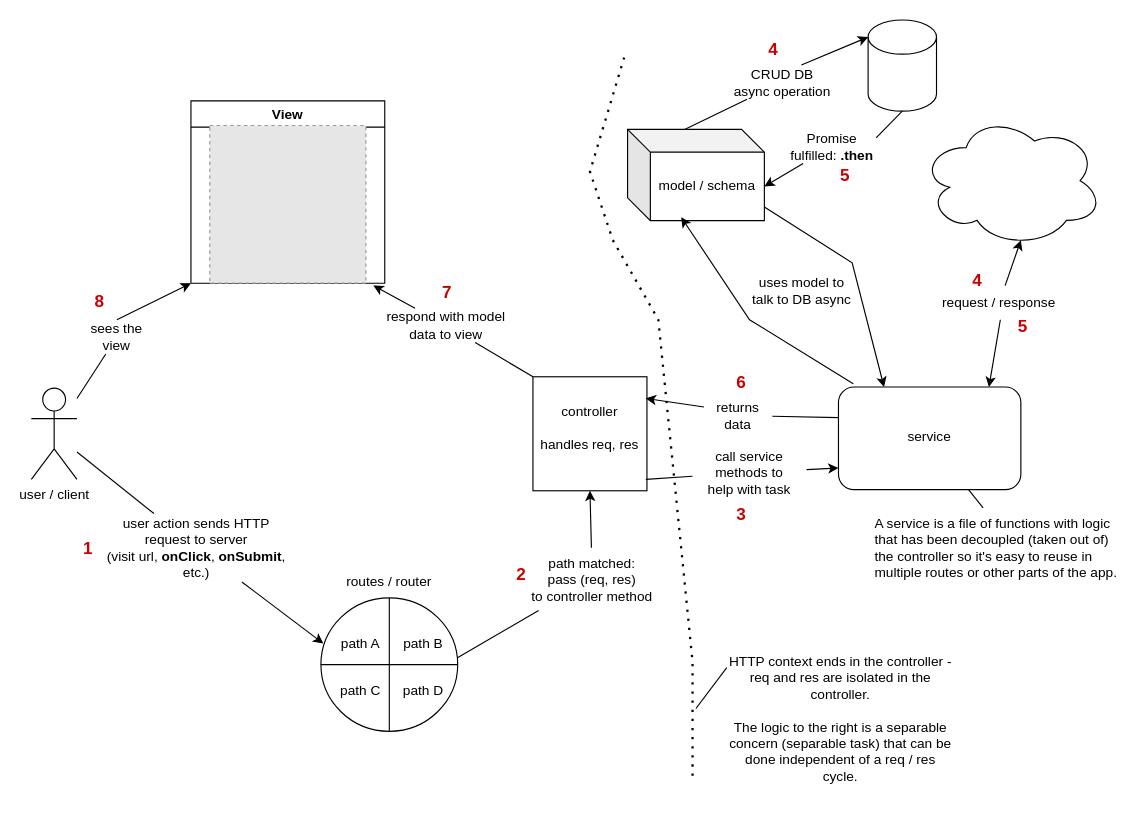
This 1145x819 diagram has some shape labels left out. Grey dashed boxes stand in for pictures. Here are the shapes that lost their labels. From the top down, the centre of each, then its label:
At (x=902, y=65): "DB".
At (x=1011, y=180): "other APIs instead or in addition to your DB".
